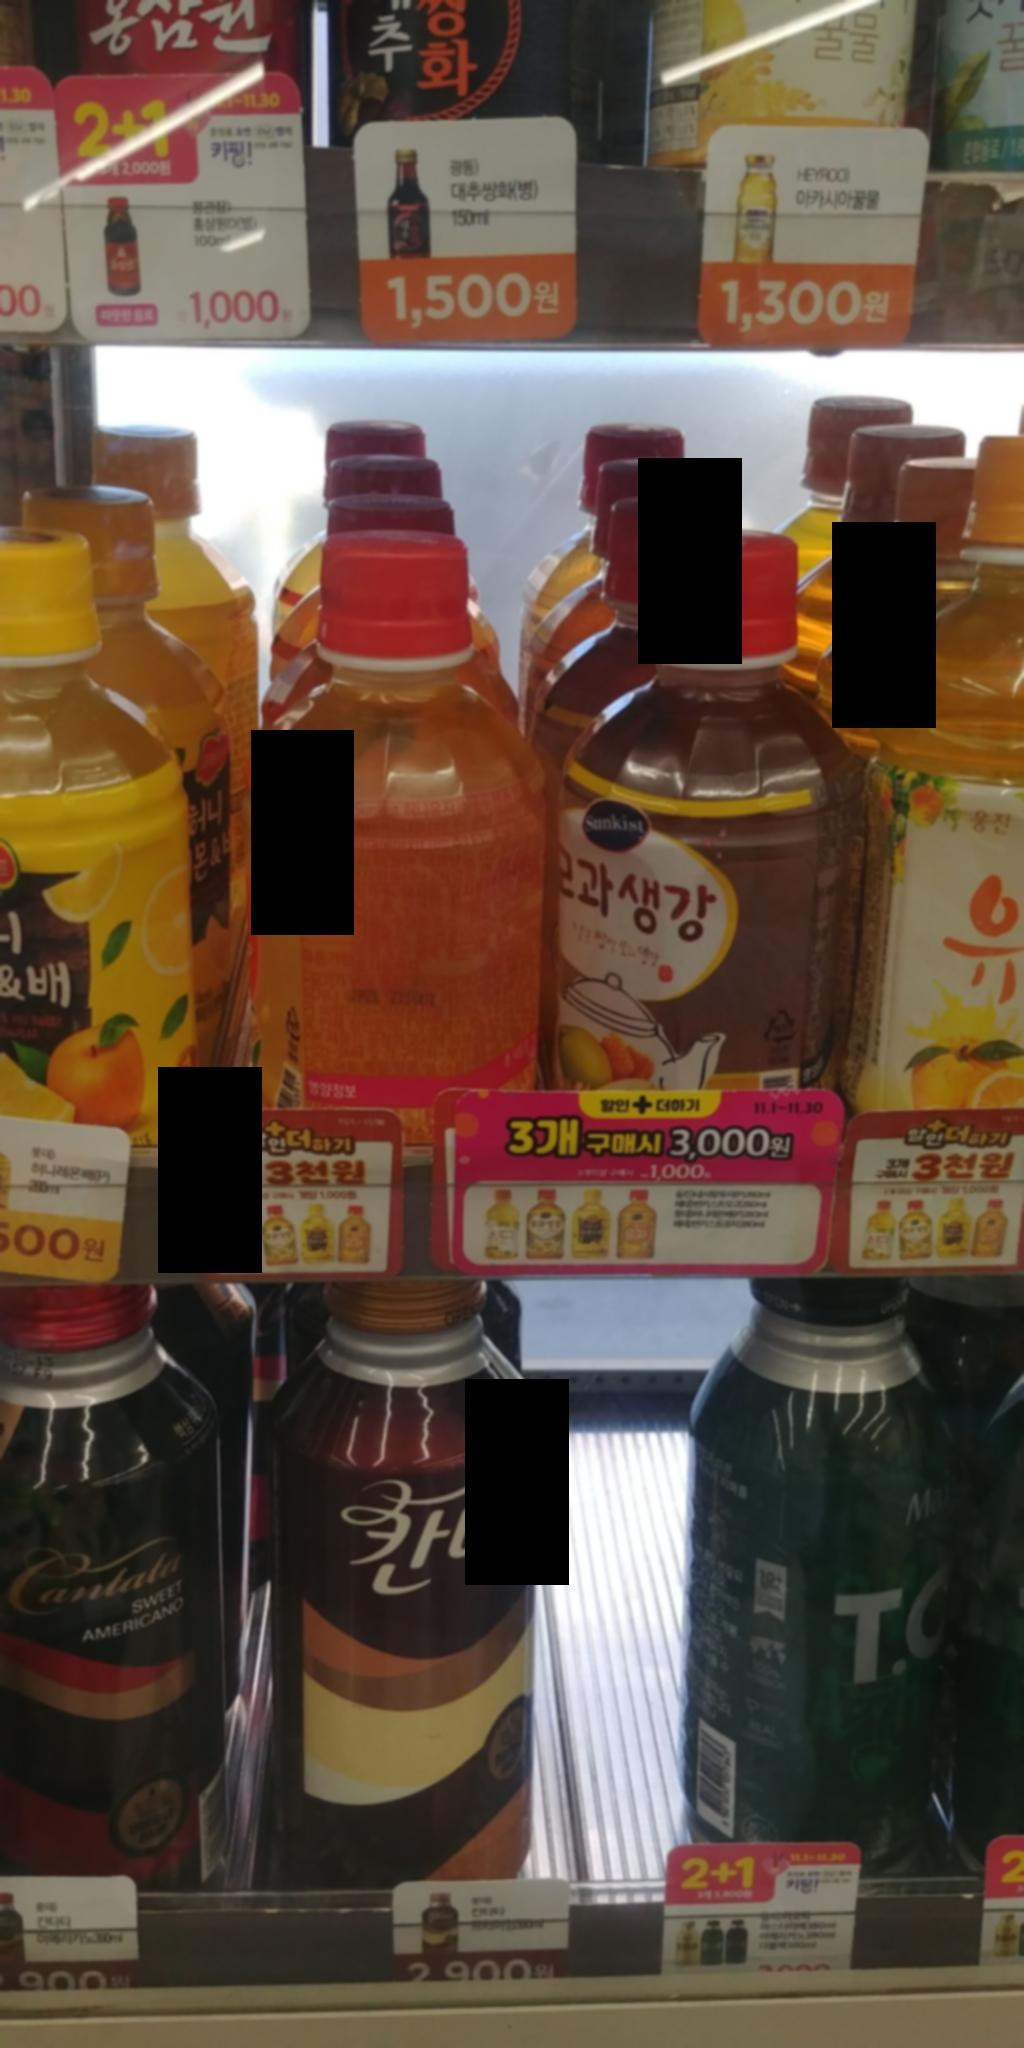honeyyuja: (189, 502, 551, 1139)
